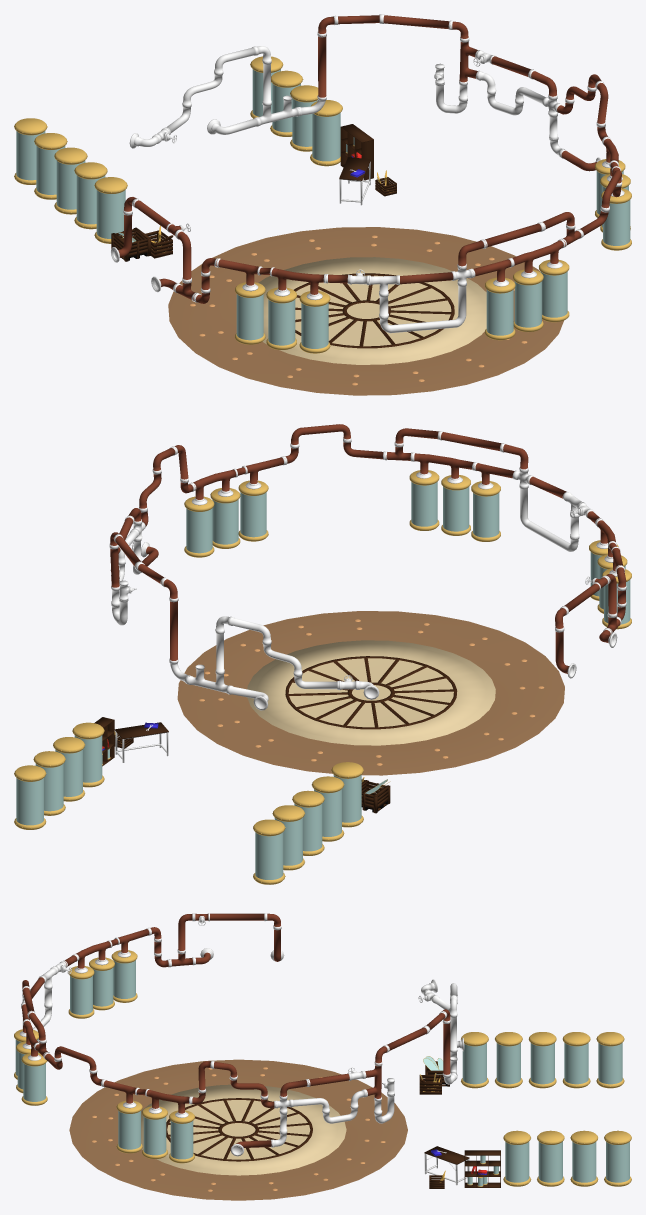
File: BossArena01.fbx
3 renders of one model, top to bottom at view 1: azimuth 30°, elevation 25°; view 2: azimuth 150°, elevation 25°; view 3: azimuth 270°, elevation 25°, orthographic. The views are drawn at different scales.
Parts seen in each view (by area): view 1: Cylinder.003; view 2: Cylinder.003; view 3: Cylinder.003.
Boxes of the visible parts, x1,y1,x2,y2 form: Cylinder.003: [14, 14, 631, 395]; Cylinder.003: [14, 424, 631, 884]; Cylinder.003: [14, 913, 631, 1200].
Size of the model in its own units: 52496 by 20576 by 71852.
